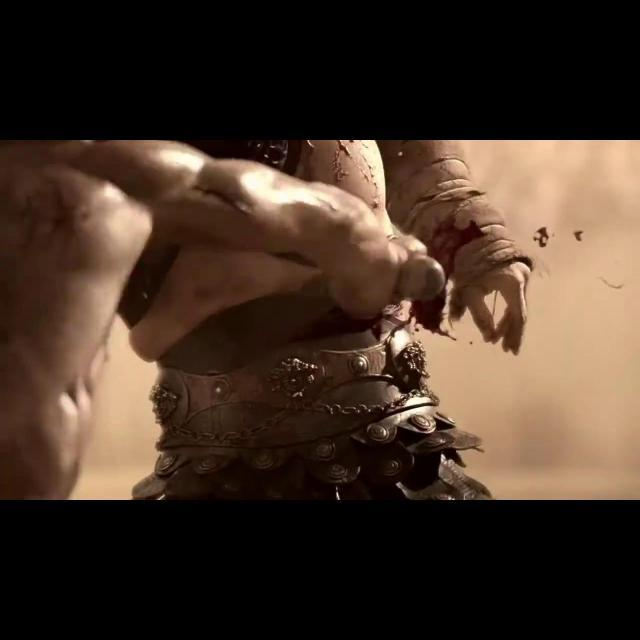blood: (390, 220, 482, 350), (534, 226, 551, 247), (574, 230, 584, 241)
